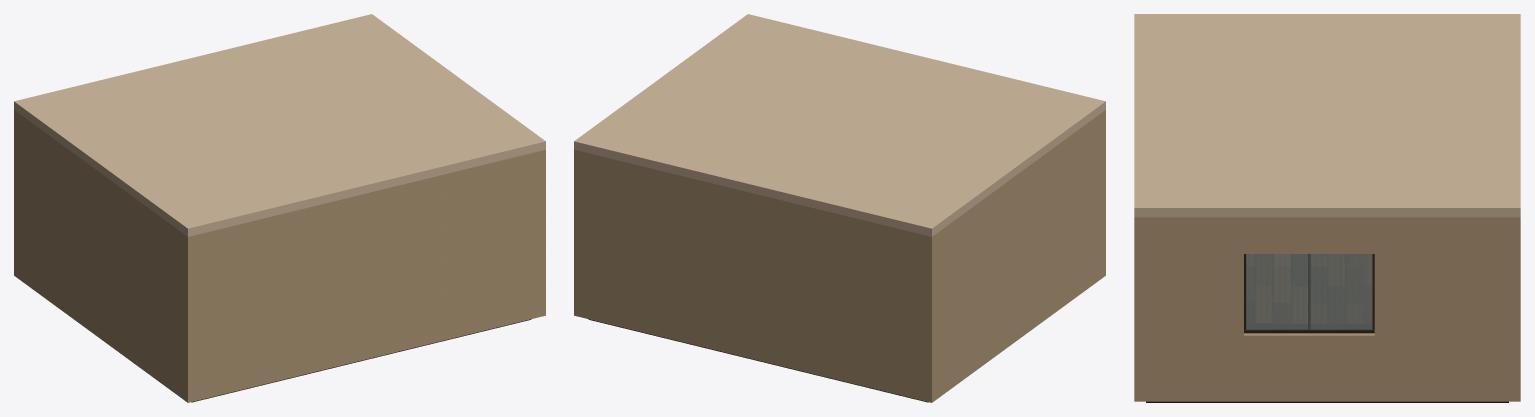
File: room.glb
The picture shows the model from 3 angles, left to right: view 1: azimuth 30°, elevation 25°; view 2: azimuth 150°, elevation 25°; view 3: azimuth 270°, elevation 25°; orthographic projection. The views are drawn at different scales.
Parts seen in each view (by area): view 1: Plain warm ceiling, Wall front, Wall left, Wall back; view 2: Plain warm ceiling, Wall back, Wall left, Wall front; view 3: Plain warm ceiling, Right wall around window, Right wall around window.001, Right wall around window.003, Window glazing, Right wall around window.002, Wall back, Wall front, Window sill, Floor foundation, Walnut plank.032, Walnut plank.036 (+9 smaller).
Part boxes in pixels (left/top/right/bottom): Plain warm ceiling: left=14, top=14, right=545, bottom=236; Wall front: left=182, top=149, right=545, bottom=402; Wall left: left=19, top=114, right=182, bottom=398; Wall back: left=14, top=110, right=19, bottom=278; Plain warm ceiling: left=574, top=14, right=1105, bottom=236; Wall back: left=574, top=149, right=937, bottom=402; Wall left: left=937, top=114, right=1100, bottom=398; Wall front: left=1100, top=110, right=1105, bottom=278; Plain warm ceiling: left=1134, top=14, right=1520, bottom=217; Right wall around window: left=1146, top=333, right=1508, bottom=401; Right wall around window.001: left=1146, top=217, right=1508, bottom=253; Right wall around window.003: left=1374, top=254, right=1508, bottom=335; Window glazing: left=1246, top=254, right=1372, bottom=329; Right wall around window.002: left=1146, top=254, right=1243, bottom=335; Wall back: left=1509, top=217, right=1520, bottom=401; Wall front: left=1134, top=217, right=1145, bottom=401; Window sill: left=1244, top=324, right=1374, bottom=333; Floor foundation: left=1146, top=254, right=1508, bottom=402; Walnut plank.032: left=1255, top=286, right=1272, bottom=322; Walnut plank.036: left=1273, top=266, right=1290, bottom=302.
Bounding box in the file's own units: 6.32 × 3.03 × 5.32.
15 materials, 12 textured.
